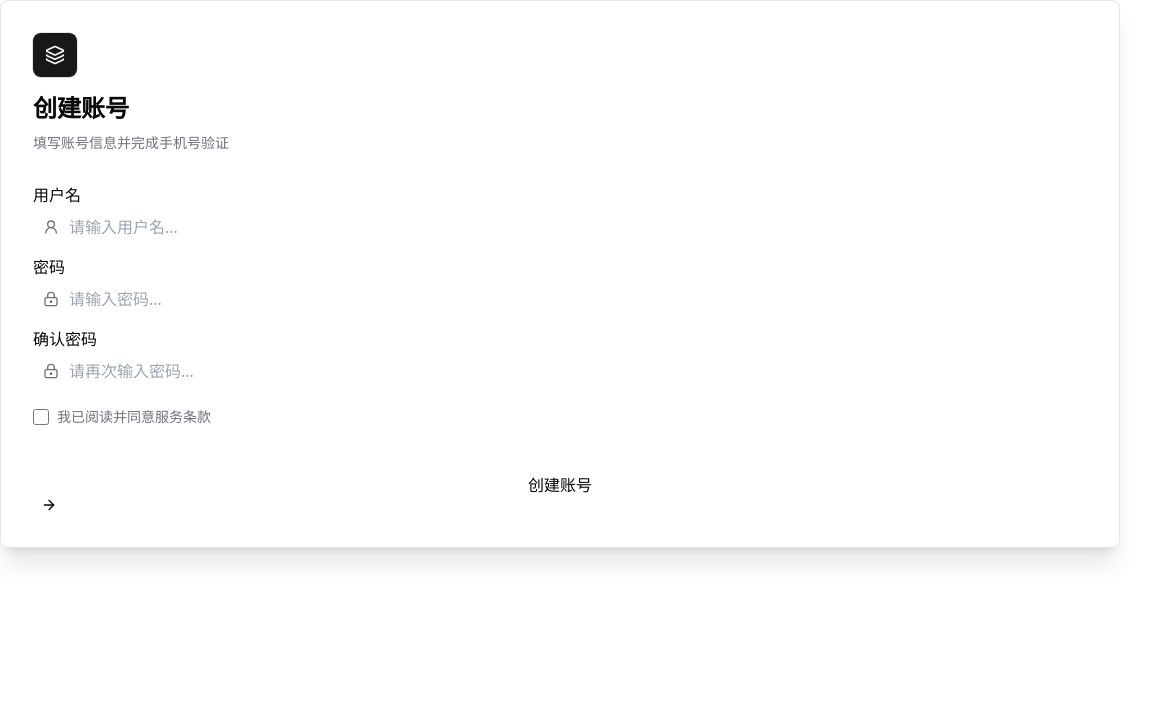
Scenario: AuthRegisterPanel › requires terms when enabled
The image size is (1152, 720).
Step 1. Type "alice" into the field labelled "用户名" → coordinates (166, 227), box [33, 215, 300, 239]
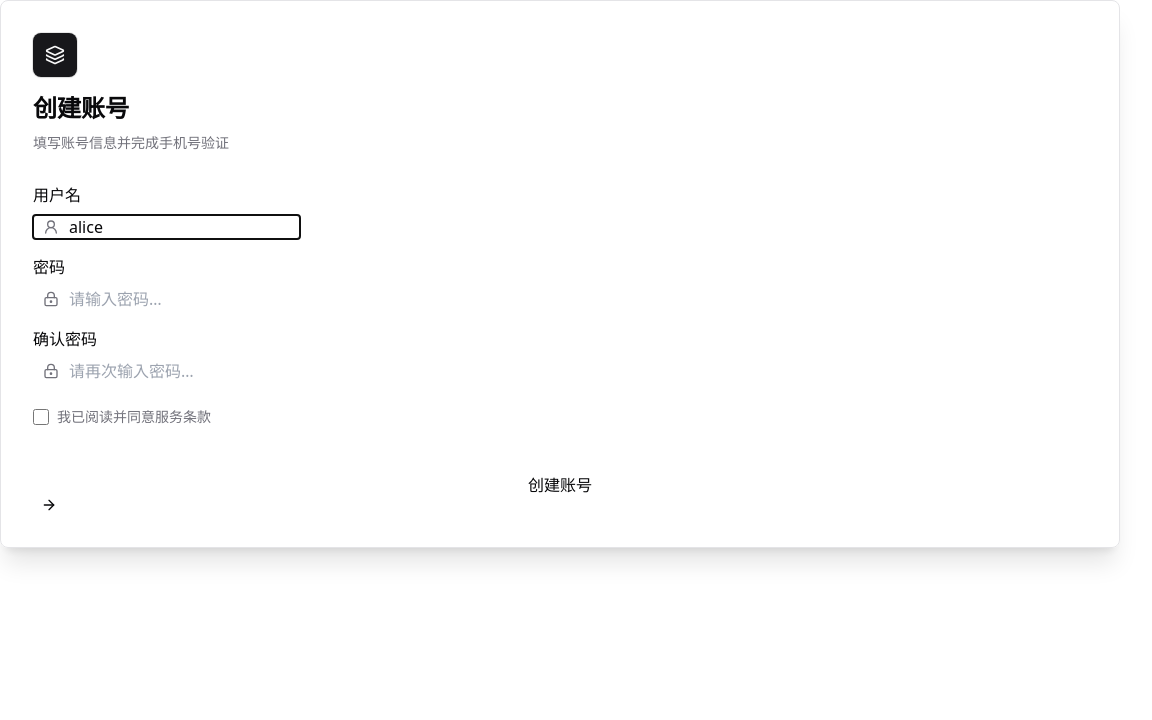
Step 2. Type "secret" into the password field labelled "密码" → coordinates (166, 299), box [33, 287, 300, 311]
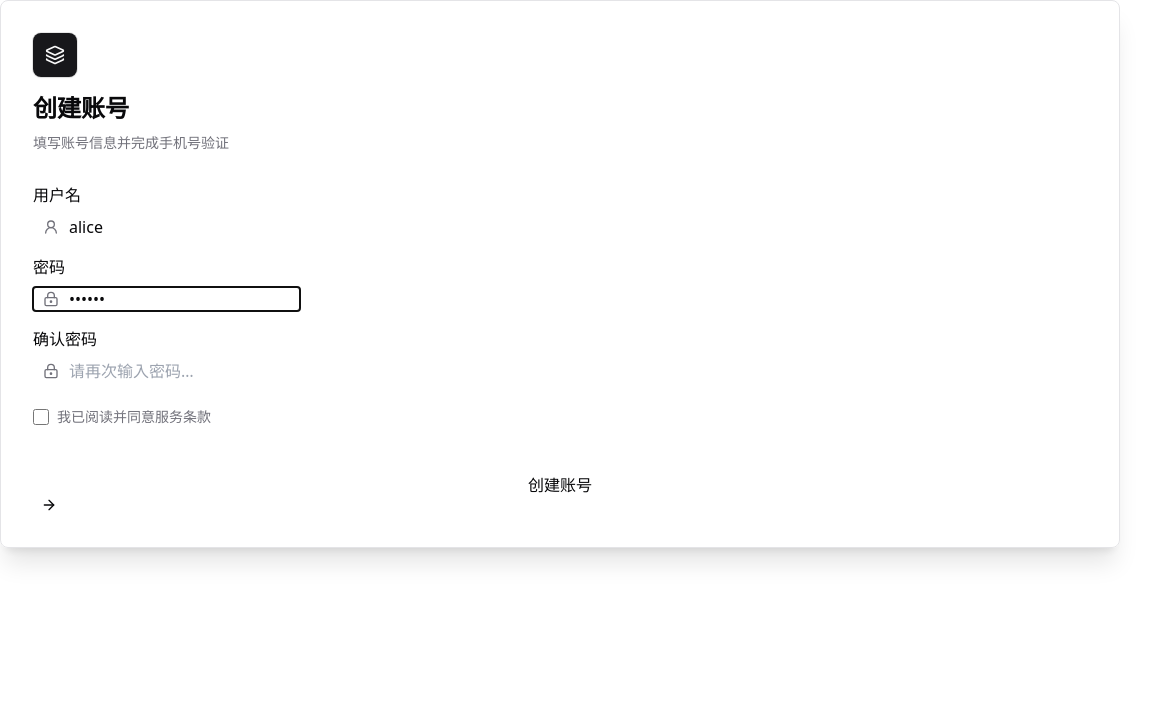
Step 3. Type "secret" into the password field labelled "确认密码" → coordinates (166, 371), box [33, 359, 300, 383]
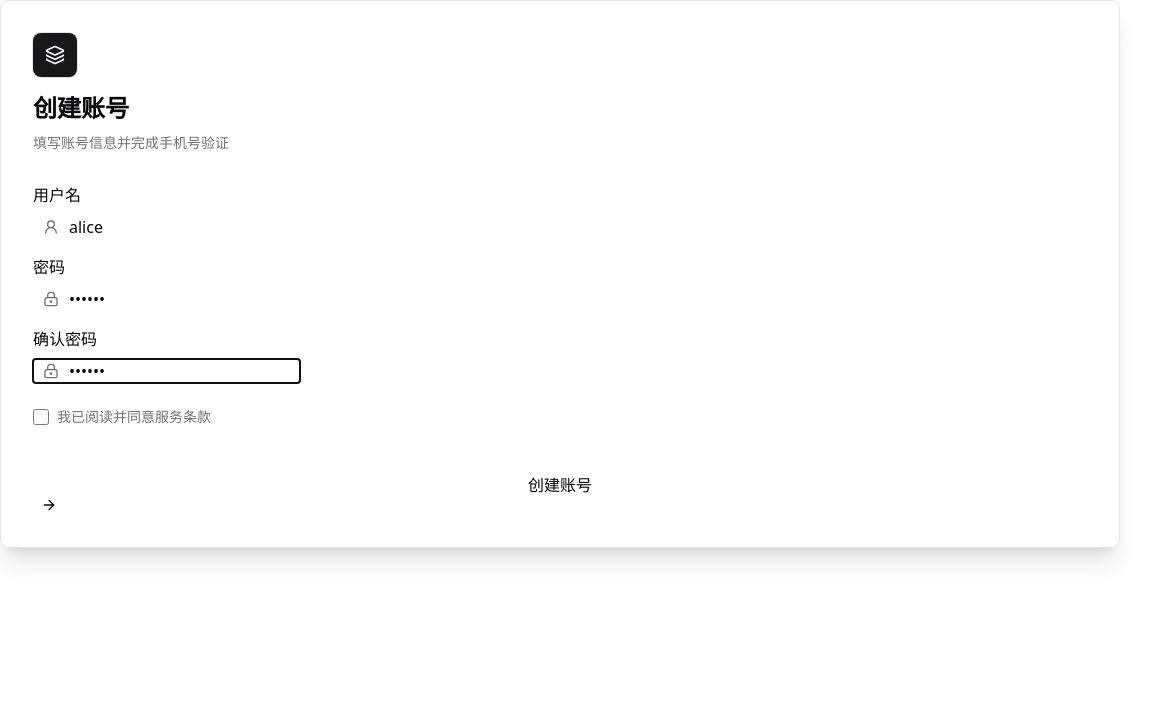
Step 4. Click the button "创建账号" → coordinates (560, 493), box [33, 471, 1087, 515]
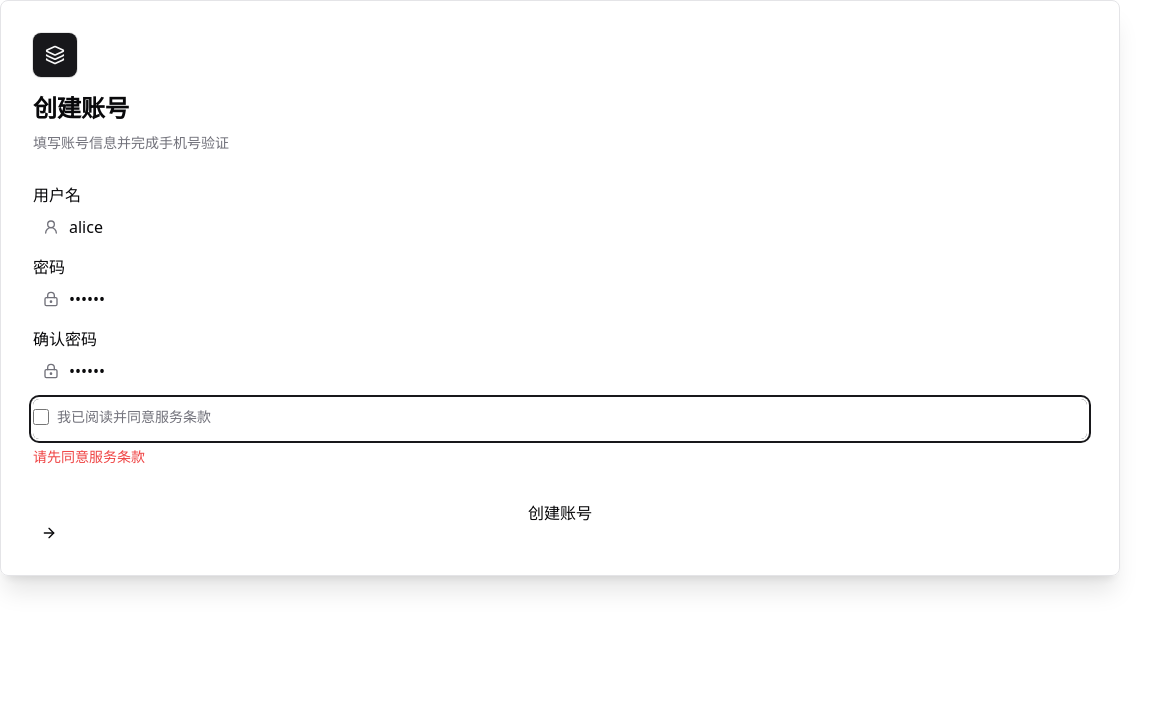
Now the text "请先同意服务条款" is shown, box [33, 447, 145, 466]
